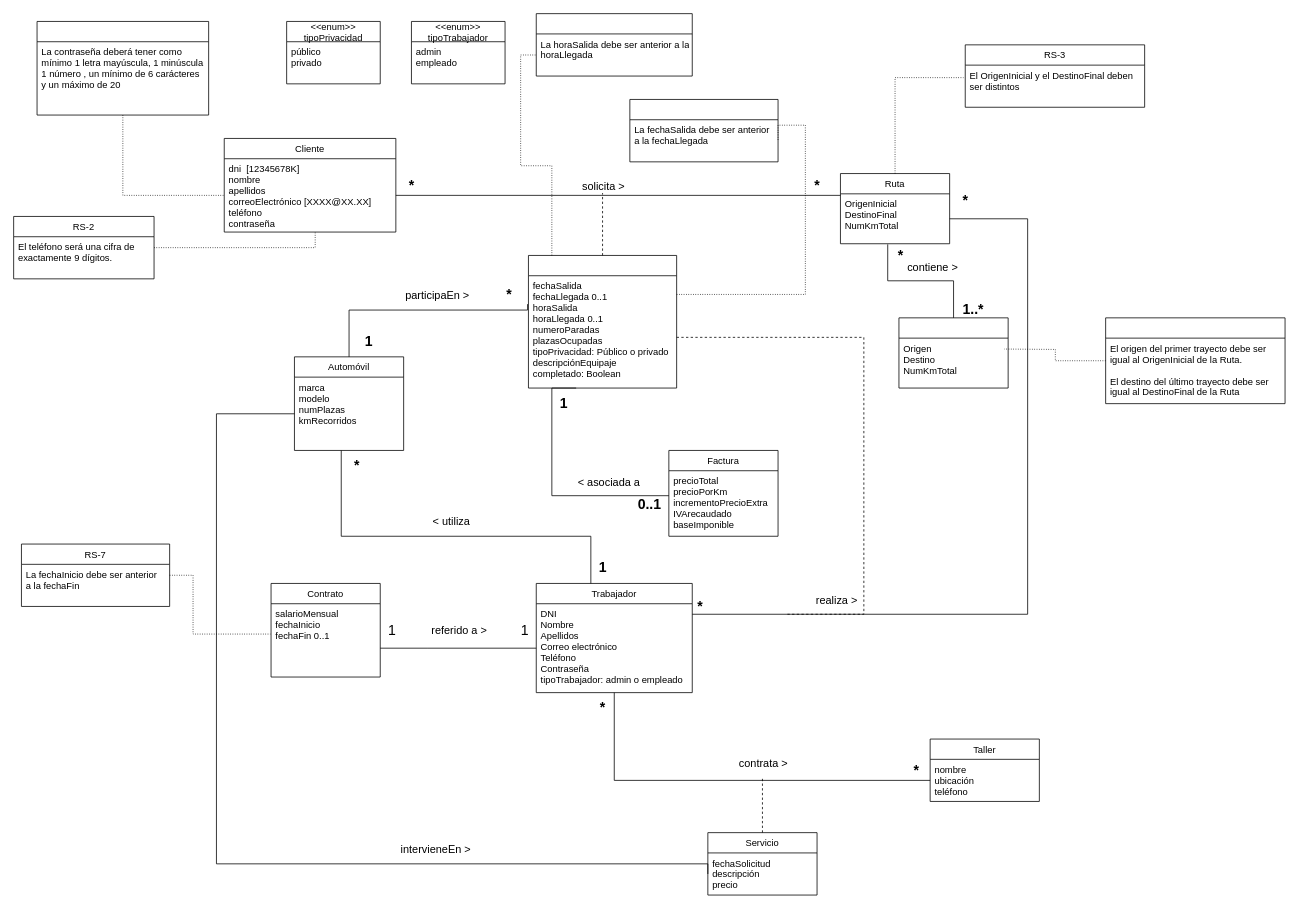
This 1299x911 diagram has some shape labels left out. The shapes that lost their labels are listed below. From the top down, each one's box as (x1, y1, x2, y2) in pixels, then its label:
(535, 13, 692, 76): RS-6
(36, 21, 209, 115): RS-1
(629, 99, 778, 162): RS-5
(528, 255, 677, 388): Reserva
(898, 317, 1008, 388): Trayecto
(1105, 317, 1285, 404): RS-4
